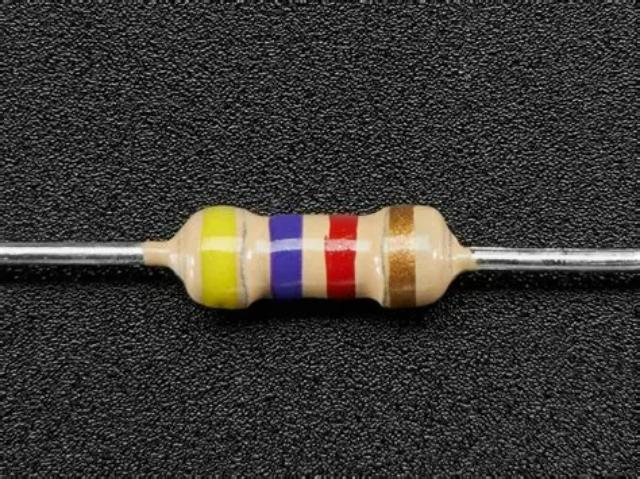gold: (380, 203, 424, 317)
red: (321, 203, 361, 313)
resistor: (52, 179, 553, 342)
violet: (261, 200, 308, 313)
yellow: (190, 203, 243, 314)
